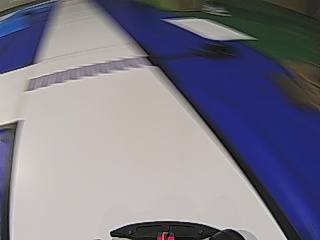CrossWalk: (19, 50, 161, 93)
